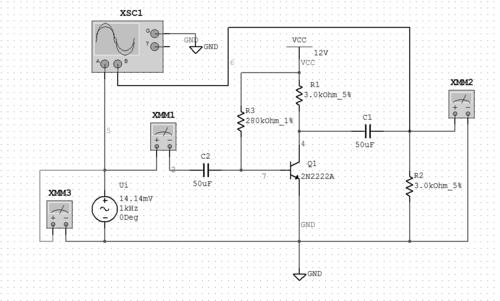cap1: (200, 159, 213, 180), (361, 122, 374, 140)
power2: (90, 193, 119, 224)
res2: (235, 108, 247, 133), (404, 173, 415, 200), (294, 82, 304, 108)
triode: (285, 157, 302, 183)
